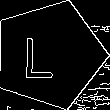L_N: (33, 29, 66, 80)
